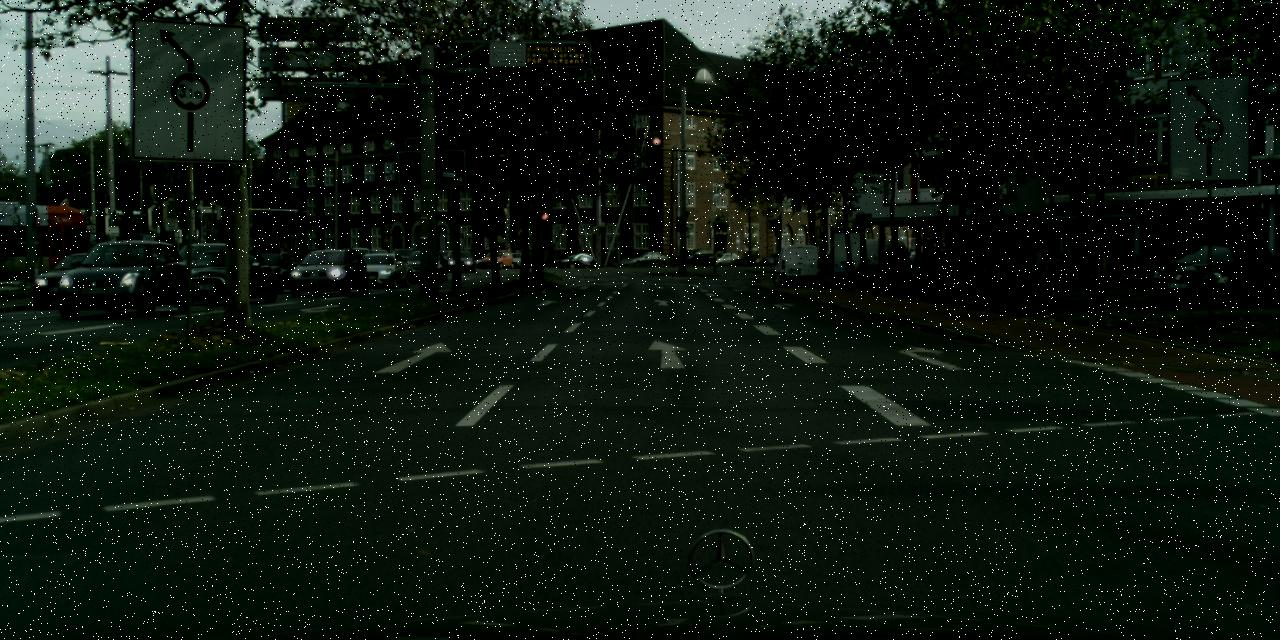ped: (883, 244, 898, 280), (276, 242, 290, 277), (292, 246, 306, 280)
